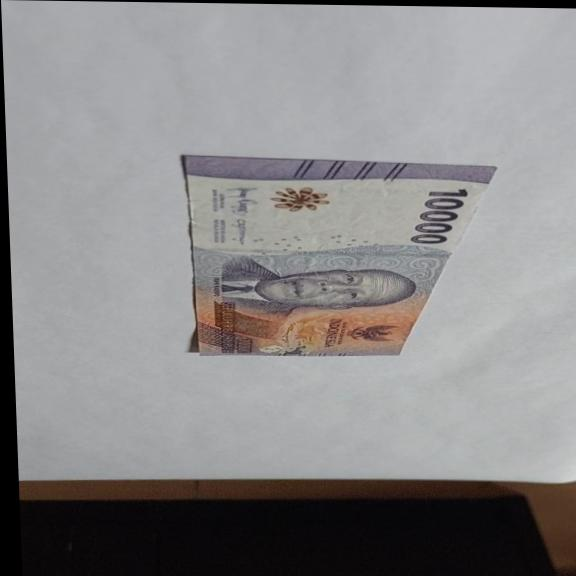Kertas: (180, 154, 505, 361), (407, 187, 472, 246)
